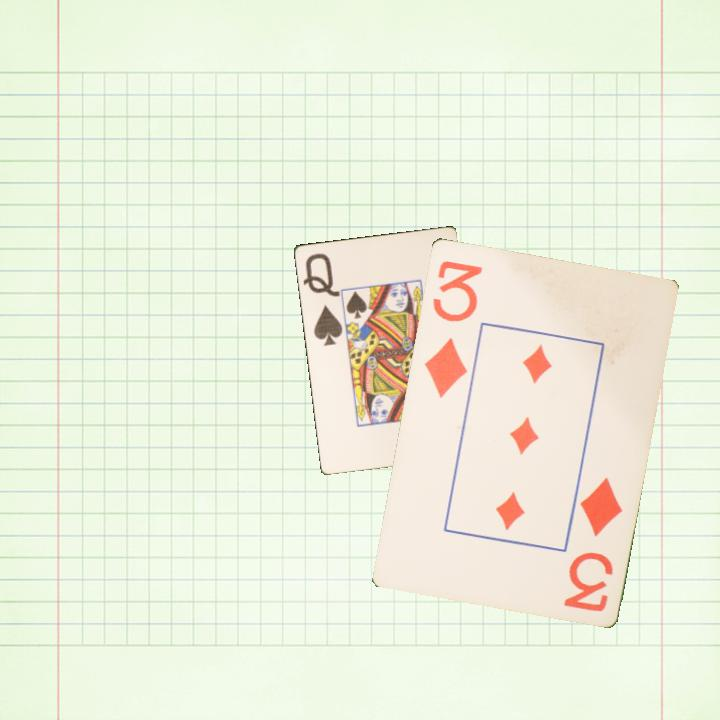3d: (420, 256, 485, 400), (559, 473, 625, 614)
Qs: (299, 249, 345, 349)
